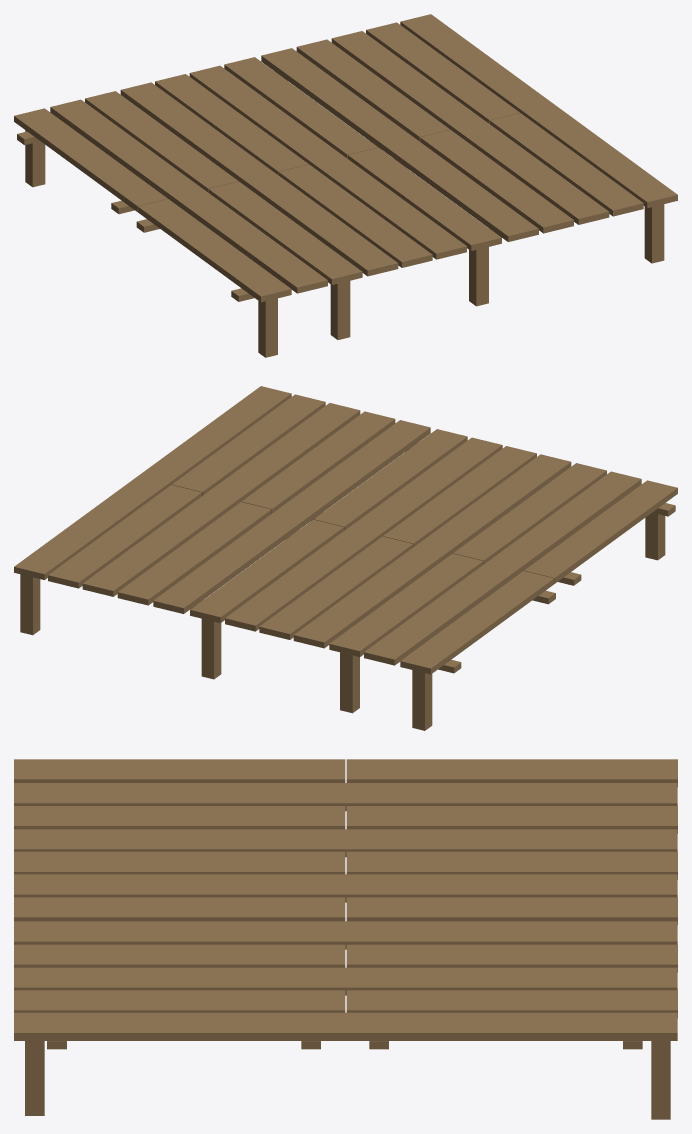
File: Stage.fbx
The picture shows the model from 3 angles, top to bottom: view 1: azimuth 30°, elevation 25°; view 2: azimuth 150°, elevation 25°; view 3: azimuth 270°, elevation 25°; orthographic projection. The views are drawn at different scales.
Visible parts, largest first — view 1: polySurface1; view 2: polySurface1; view 3: polySurface1.
Part boxes in pixels (bbox=[...]): polySurface1: bbox=[14, 14, 677, 357]; polySurface1: bbox=[14, 386, 677, 730]; polySurface1: bbox=[14, 759, 677, 1119].
Size of the model in its own units: 3.91 by 0.5801 by 3.91.
